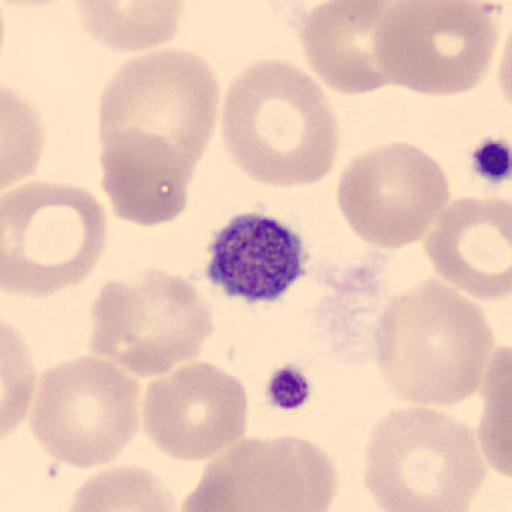Platelet: (203, 208, 315, 304), (261, 360, 316, 413)
RBC: (97, 46, 220, 194), (373, 276, 495, 410), (220, 58, 342, 190), (88, 269, 216, 377), (362, 403, 488, 512), (28, 354, 142, 471), (334, 140, 452, 251), (2, 178, 109, 298), (372, 0, 500, 97), (141, 360, 249, 464), (100, 125, 198, 228), (299, 1, 402, 95), (422, 194, 512, 301), (182, 436, 306, 512), (229, 433, 340, 512), (70, 0, 186, 52), (63, 464, 180, 512), (476, 340, 512, 482), (2, 84, 46, 190), (1, 318, 37, 442), (256, 0, 388, 27), (496, 29, 512, 108), (0, 0, 71, 6)
